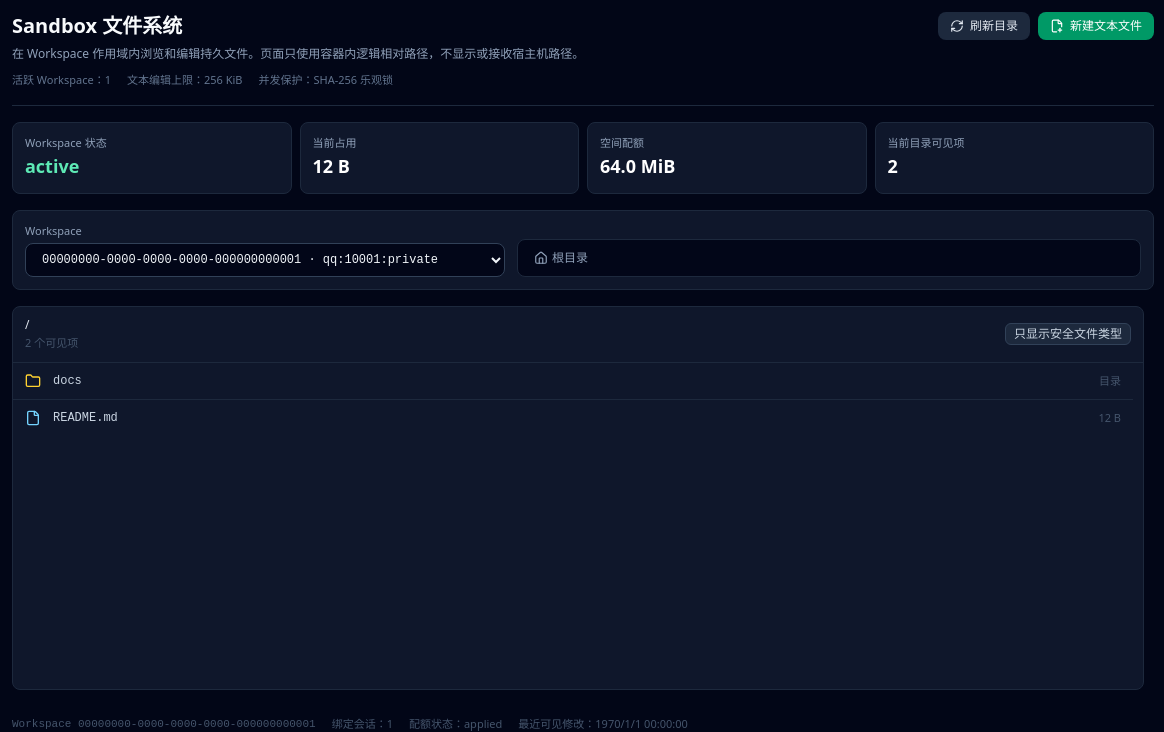
Test: Sandbox 文件系统页 › sandboxd 滚动升级期间仍提供明确的只读兼容预览
Expected: the heading "Sandbox 文件系统" is shown, 12,12 -> 182,39
Click the button "README.md 12 B" at (85, 418), box 13,400 -> 1133,436
(page scrolled)
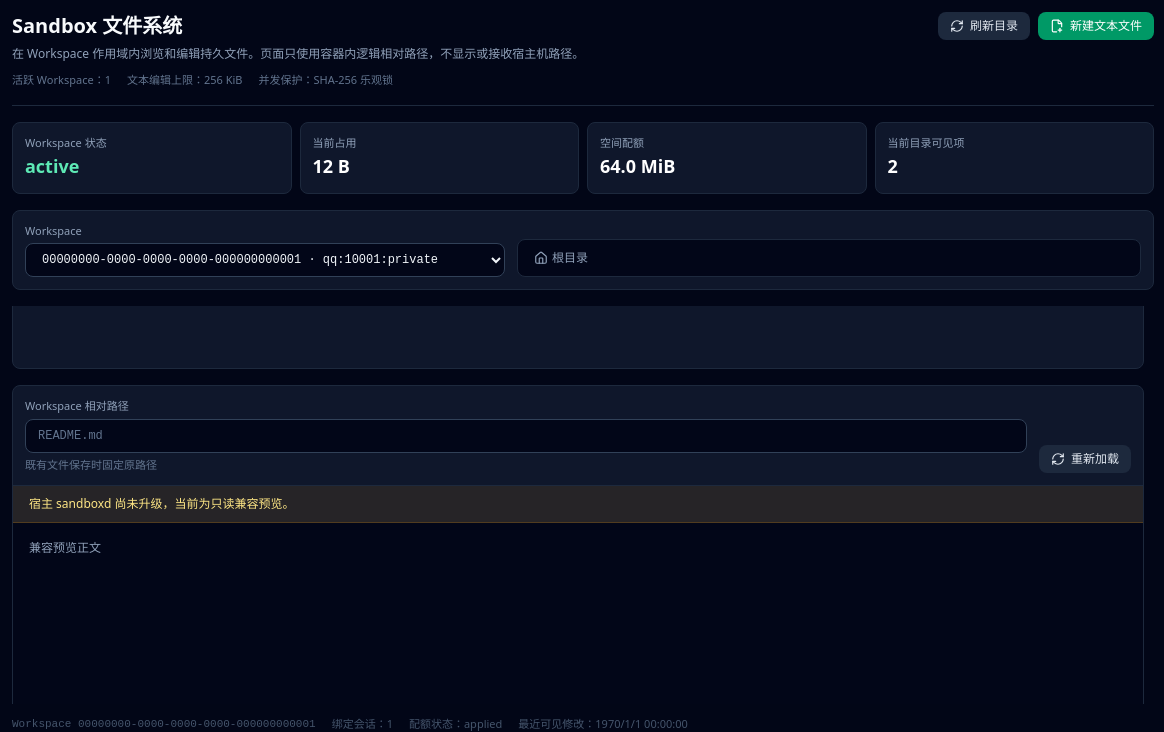
Expected: the message shows "只读兼容预览", 29,495 -> 294,512
